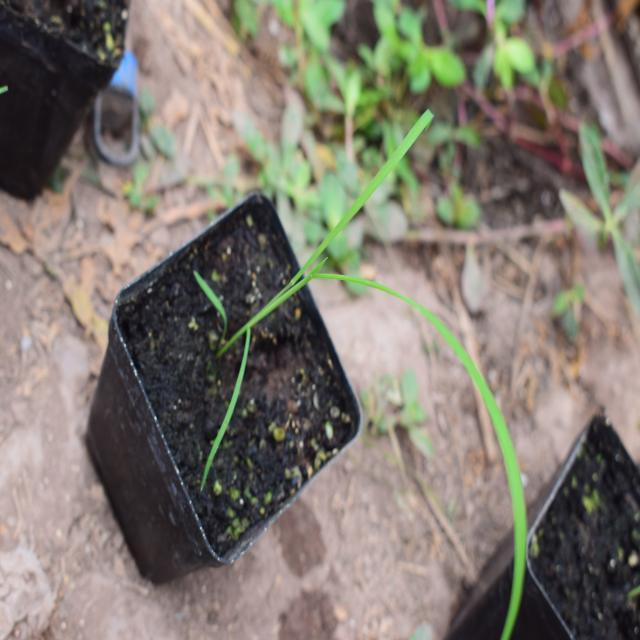barnyard_grass: (243, 111, 534, 604)
